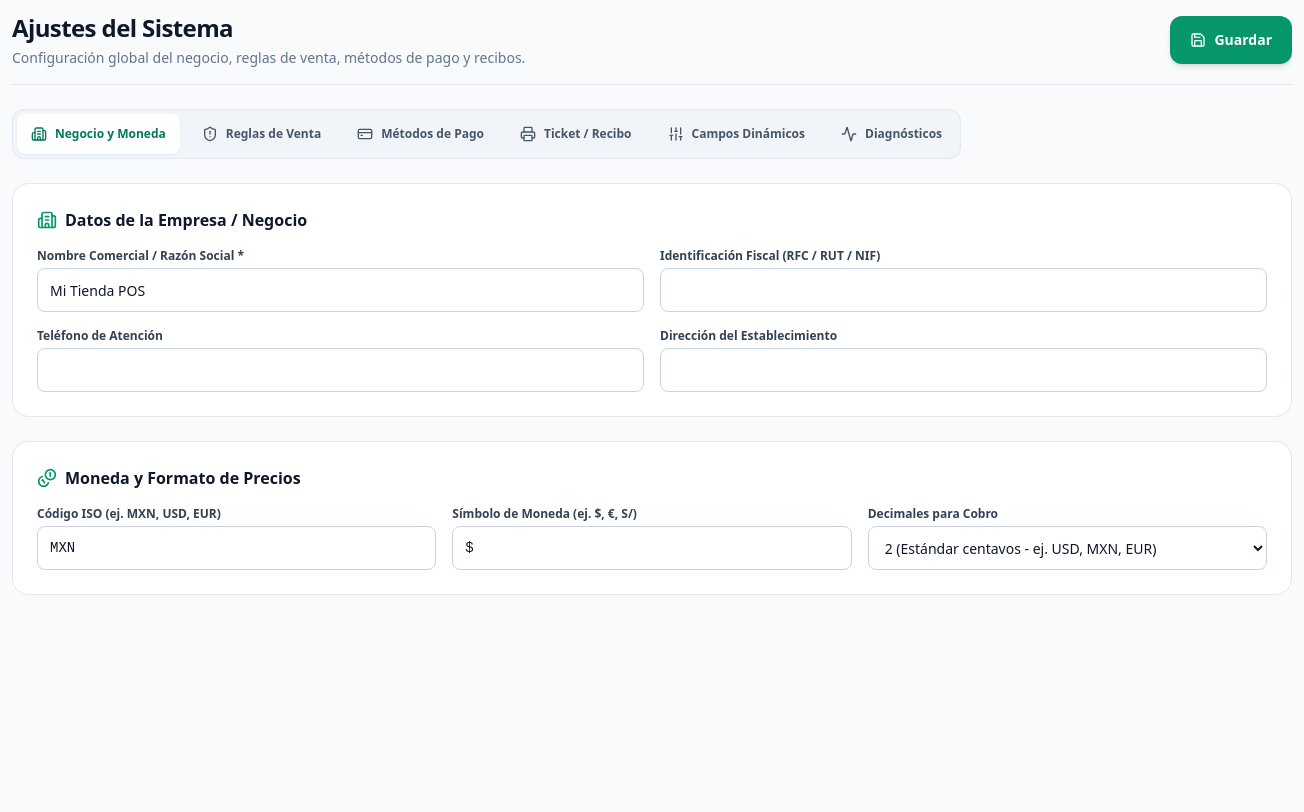
Settings Management (S3-T7) › switches to payment methods tab, toggles methods, and adds custom method
Click the button "Métodos de Pago": point(421, 134) [343,114,498,154]
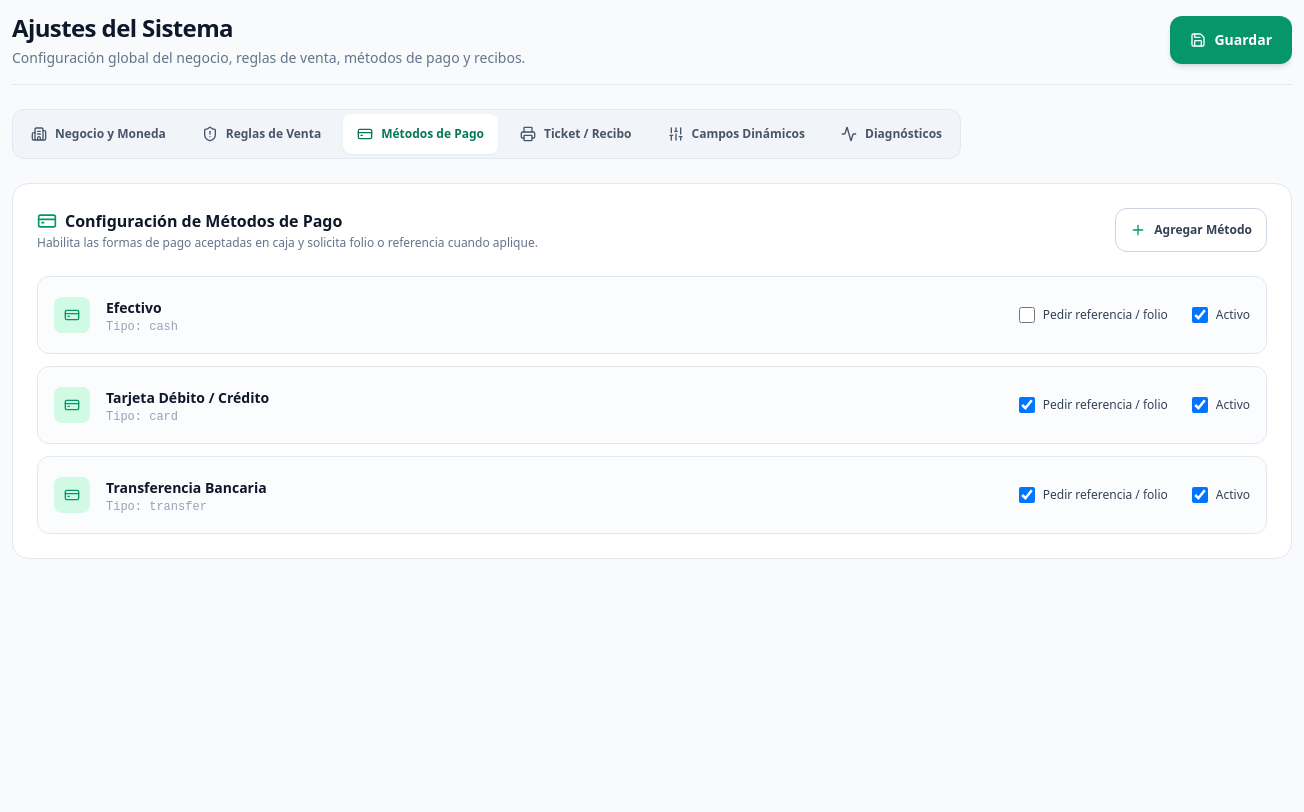
Result: the 1st field showing "Efectivo" is shown at [102,298,329,319]
Result: the 2nd field showing "tarjeta" is shown at [102,388,329,409]
Click the button "Agregar Método": point(1191, 230) [1115,208,1267,252]
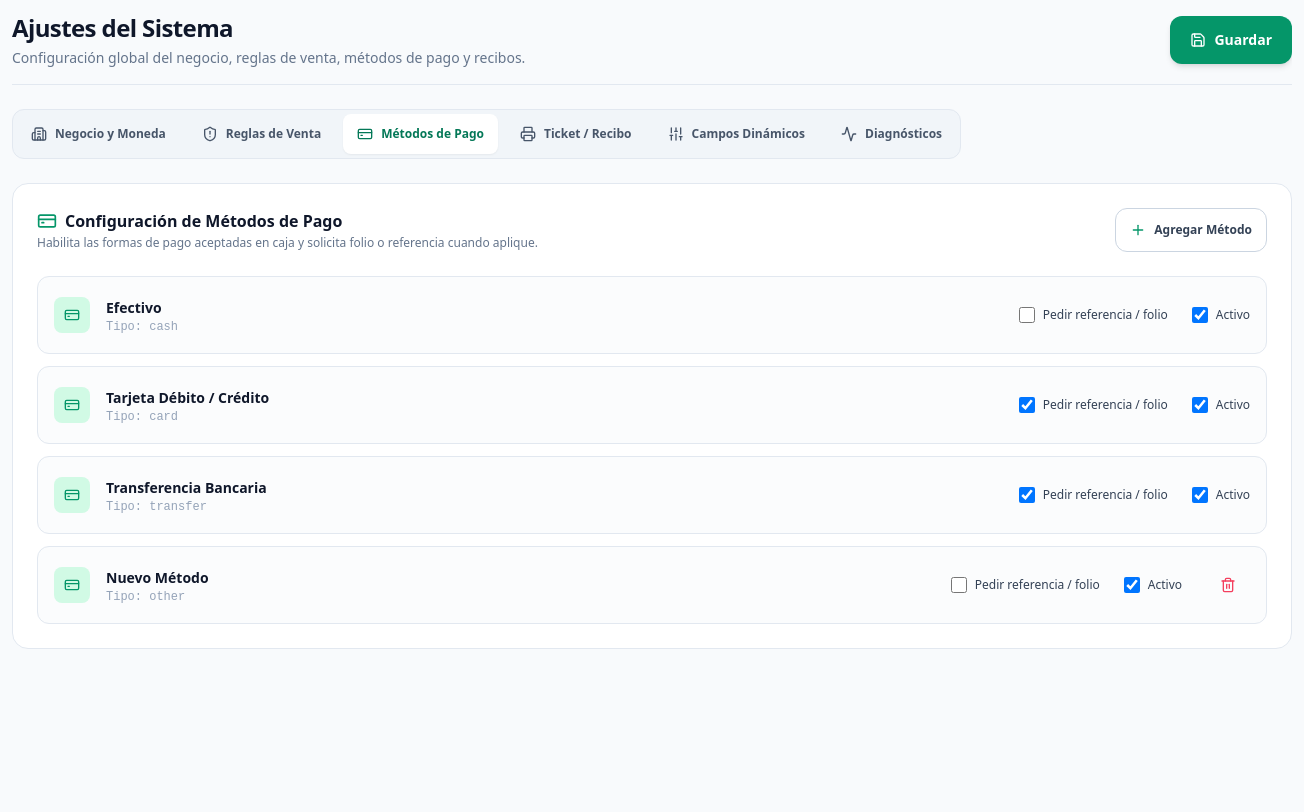
Result: the 4th field showing "Nuevo Método" is shown at [102,568,329,589]
Click the button "Guardar": point(1231, 40) [1170,16,1292,64]
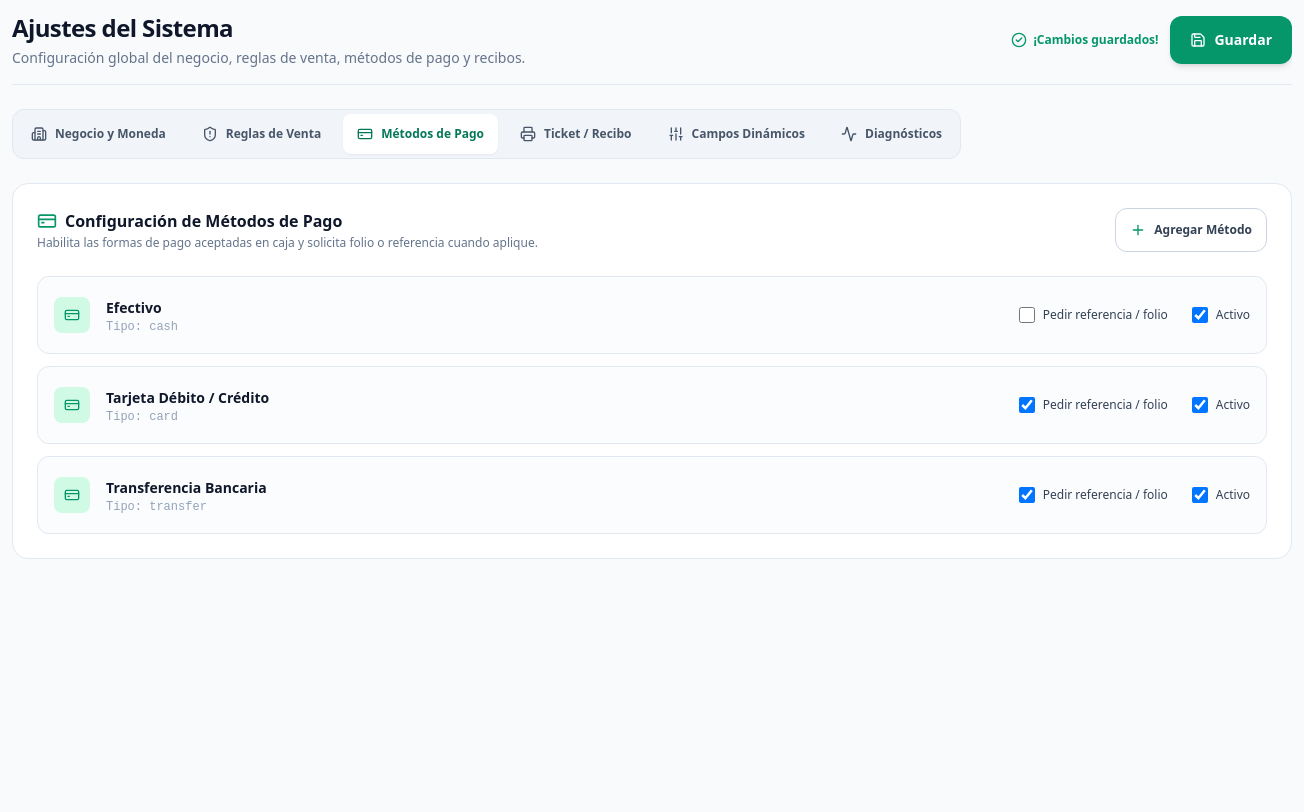
Result: the text "¡Cambios guardados!" is shown at [1011,32,1158,48]
